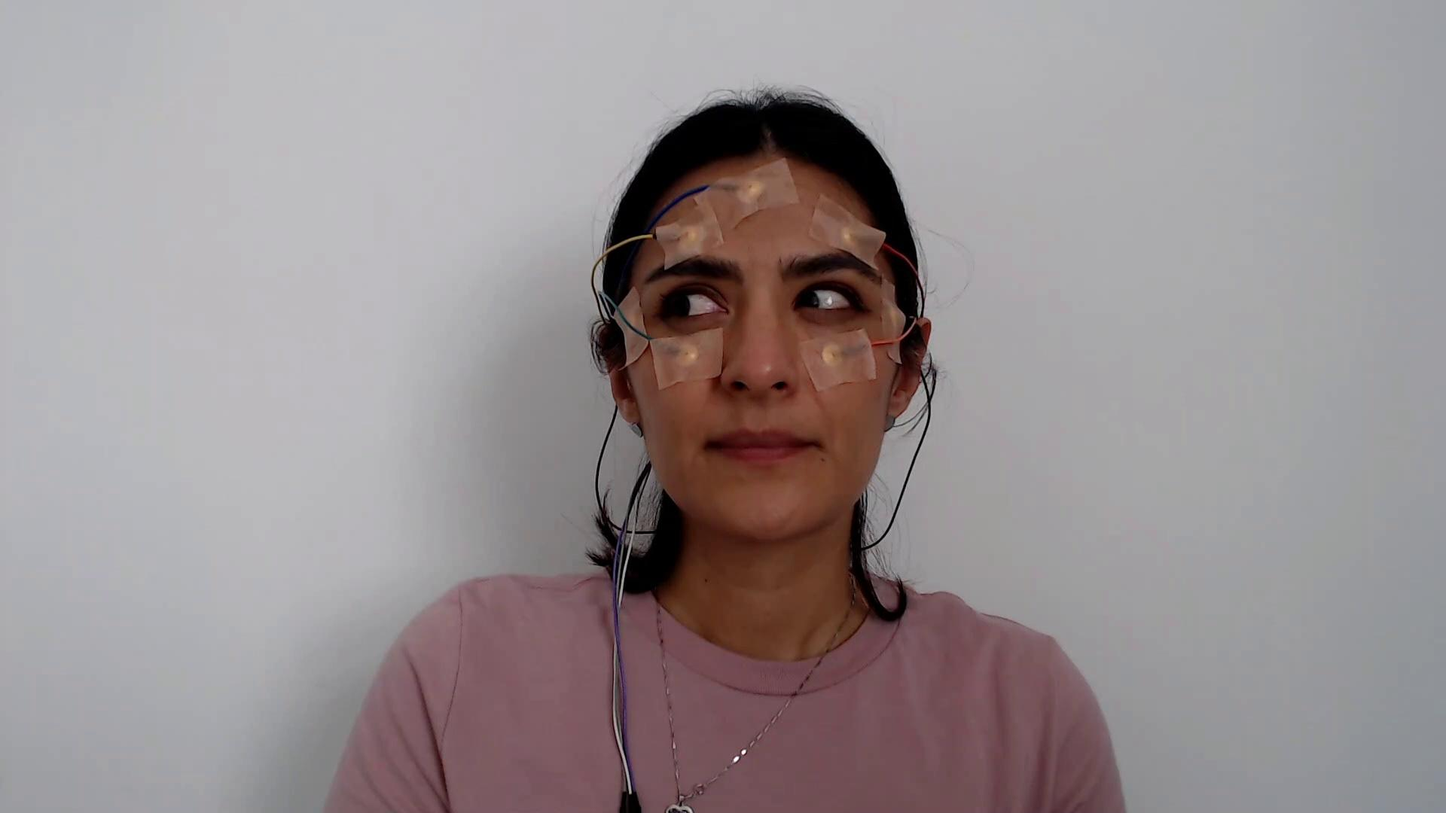Iris: (664, 296, 689, 315), (799, 291, 819, 308)
Ojos: (658, 283, 730, 320), (791, 281, 867, 314)
